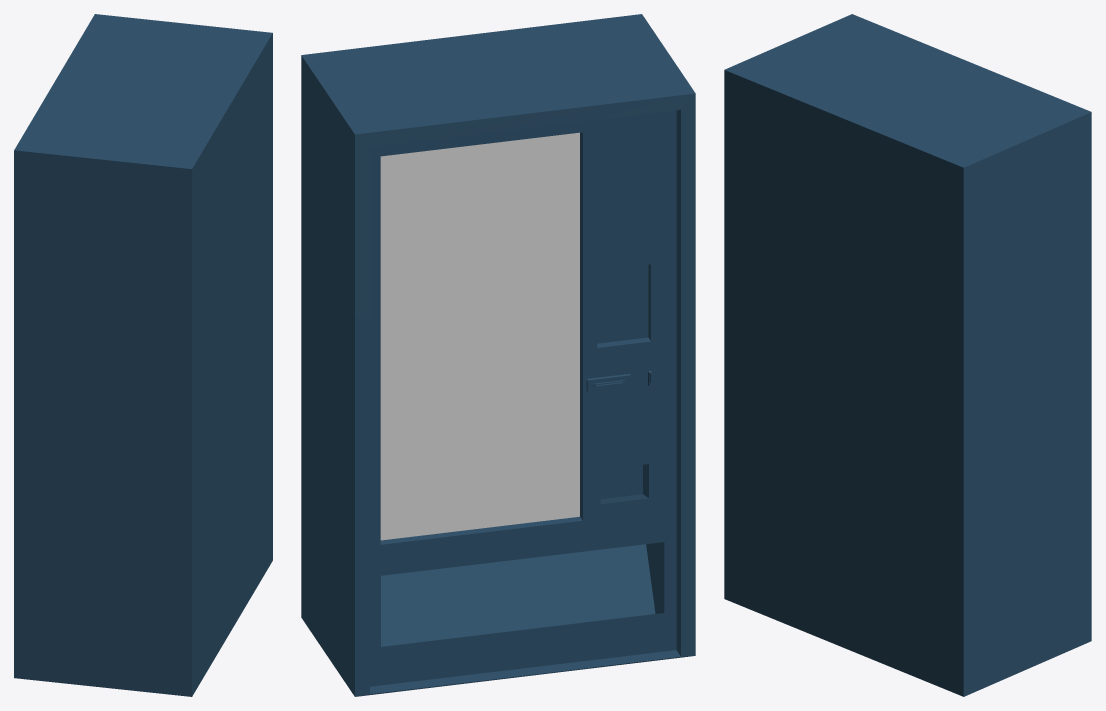
File: Vending Machine Blue.fbx
3 views of the same model, side by side, from view 1: azimuth 30°, elevation 25°; view 2: azimuth 150°, elevation 25°; view 3: azimuth 270°, elevation 25° (orthographic). The views are drawn at different scales.
Visible parts, largest first — view 1: Vending Machine Blue; view 2: Vending Machine Blue; view 3: Vending Machine Blue.
Boxes of the visible parts, left/top/right/bottom form: Vending Machine Blue: left=14, top=14, right=272, bottom=696; Vending Machine Blue: left=301, top=14, right=695, bottom=696; Vending Machine Blue: left=724, top=14, right=1091, bottom=696.
Size of the model in its own units: 185 by 187 by 296.
